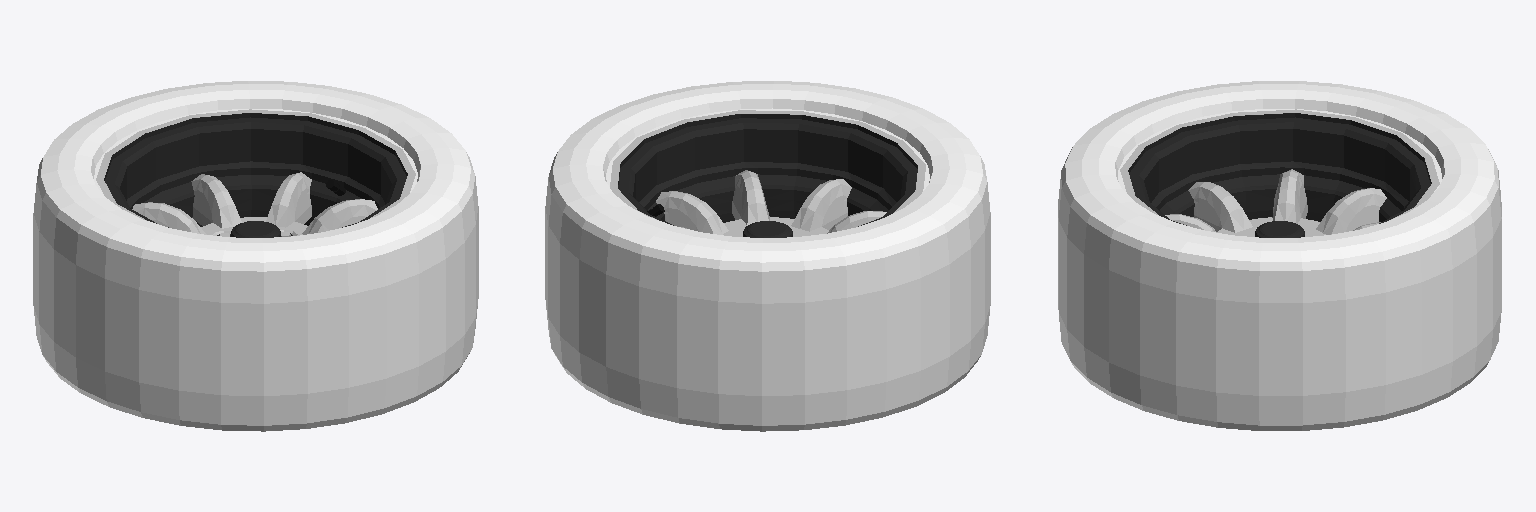
File: AFS_RaceCar_2024_wheel.obj
The picture shows the model from 3 angles: view 1: azimuth 30°, elevation 25°; view 2: azimuth 150°, elevation 25°; view 3: azimuth 270°, elevation 25°; orthographic projection.
Parts seen in each view (by area): view 1: Wheel_fl.002_Plane.008; view 2: Wheel_fl.002_Plane.008; view 3: Wheel_fl.002_Plane.008.
Part boxes in pixels (x1,y1,x2,y2): Wheel_fl.002_Plane.008: (33,81,478,431); Wheel_fl.002_Plane.008: (545,81,990,431); Wheel_fl.002_Plane.008: (1058,81,1501,430).
Size of the model in its own units: 0.5133 by 0.2288 by 0.5133.